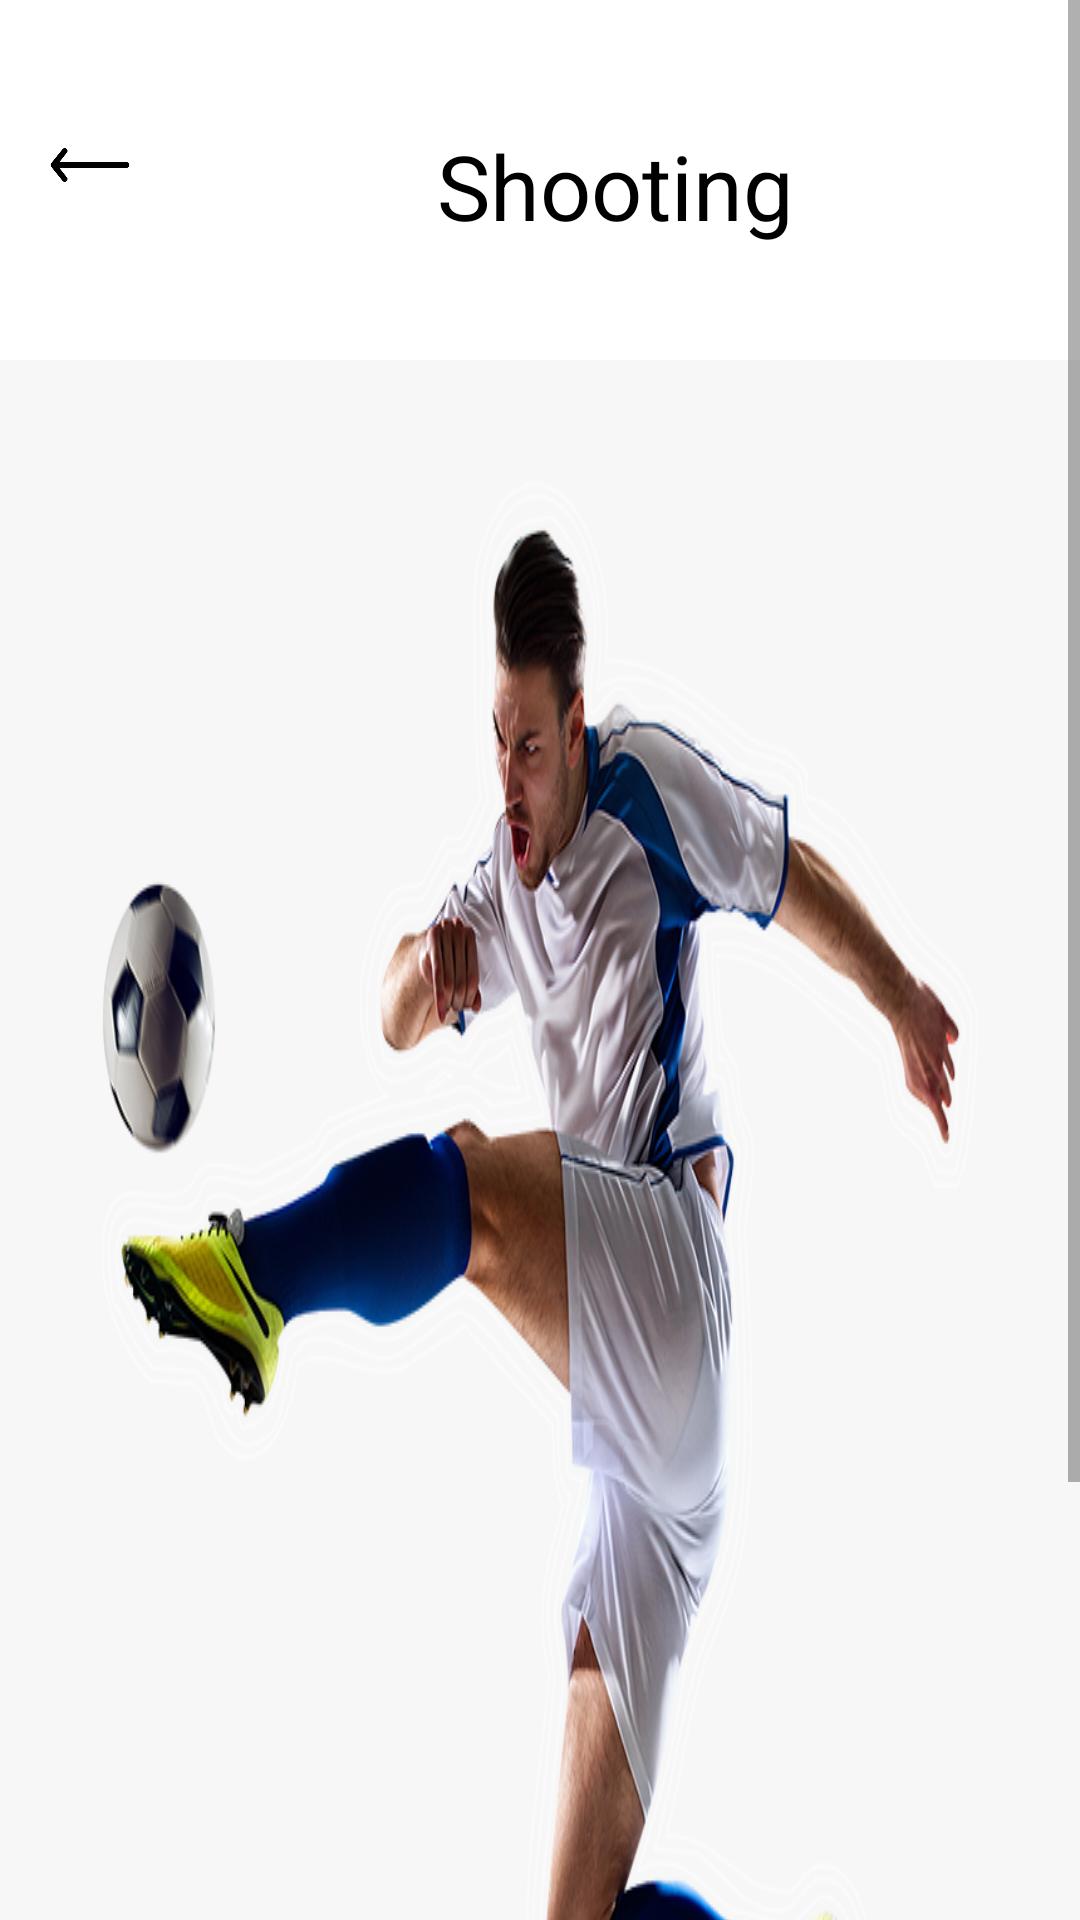

Icons on this 1080w x 1920h Android screen, each with its box as (x1, y1, x2, y2):
back arrow: (51, 148, 129, 182)
